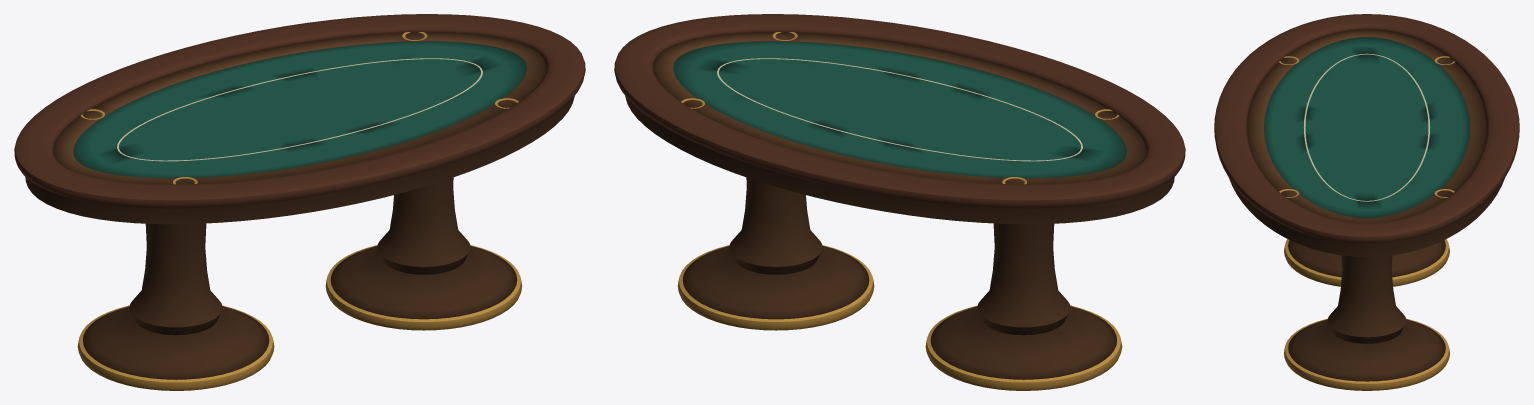
The model's file is table-poker.glb.
3 views of the same model, side by side, from view 1: azimuth 30°, elevation 25°; view 2: azimuth 150°, elevation 25°; view 3: azimuth 270°, elevation 25° (orthographic). The views are drawn at different scales.
Parts seen in each view (by area): view 1: Frame, Felt, Rail, Trim, BettingLine; view 2: Frame, Felt, Rail, Trim, BettingLine; view 3: Felt, Frame, Rail, Trim, BettingLine.
Part boxes in pixels (x1,y1,x2,y2): Frame: (25,32,574,379); Felt: (73,41,526,178); Rail: (14,14,585,208); Trim: (77,31,522,390); BettingLine: (117,58,482,161); Frame: (625,32,1174,379); Felt: (673,41,1126,178); Rail: (614,14,1185,208); Trim: (677,31,1122,390); BettingLine: (717,58,1082,161); Felt: (1264,37,1469,218); Frame: (1229,29,1504,381); Rail: (1214,14,1519,243); Trim: (1279,56,1454,390); BettingLine: (1303,53,1430,201).
Size of the model in its own units: 2.01 by 0.7622 by 1.16.
Materials: 5 (1 with a texture image).
